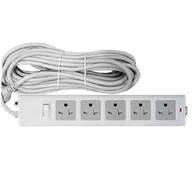Three_eye_plug: (5, 89, 194, 134)
